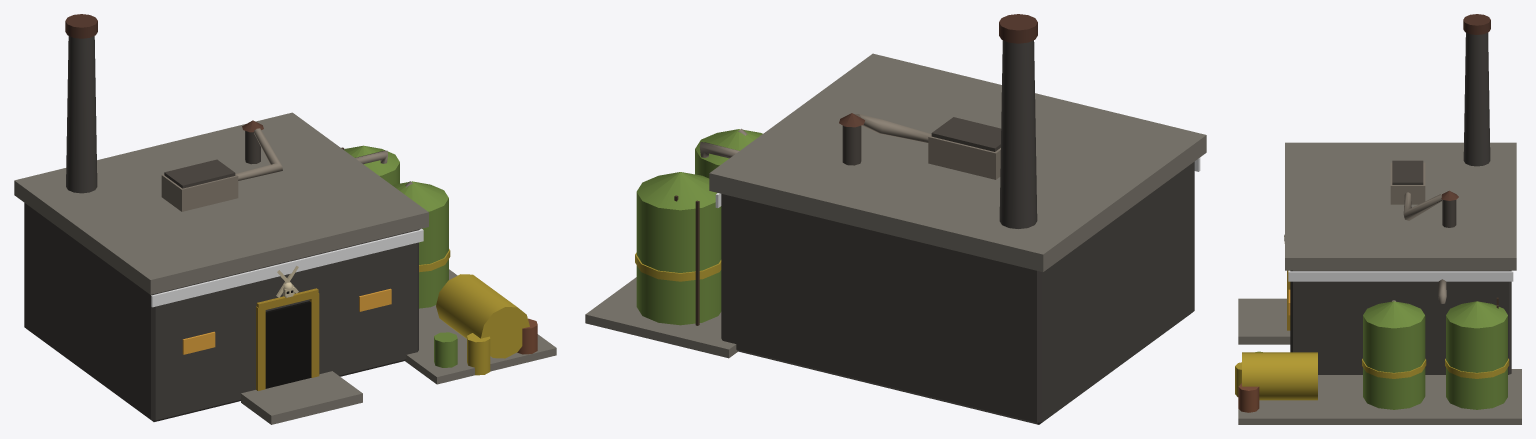
3 views of the same model, side by side, from view 1: azimuth 30°, elevation 25°; view 2: azimuth 150°, elevation 25°; view 3: azimuth 270°, elevation 25° (orthographic). The views are drawn at different scales.
Parts seen in each view (by area): view 1: raider_building_chemlab; view 2: raider_building_chemlab; view 3: raider_building_chemlab.
Part boxes in pixels (left/top/right/bottom): raider_building_chemlab: left=14, top=14, right=556, bottom=424; raider_building_chemlab: left=585, top=14, right=1206, bottom=424; raider_building_chemlab: left=1235, top=14, right=1521, bottom=424.
Size of the model in its own units: 10.75 by 8.5 by 8.3.
